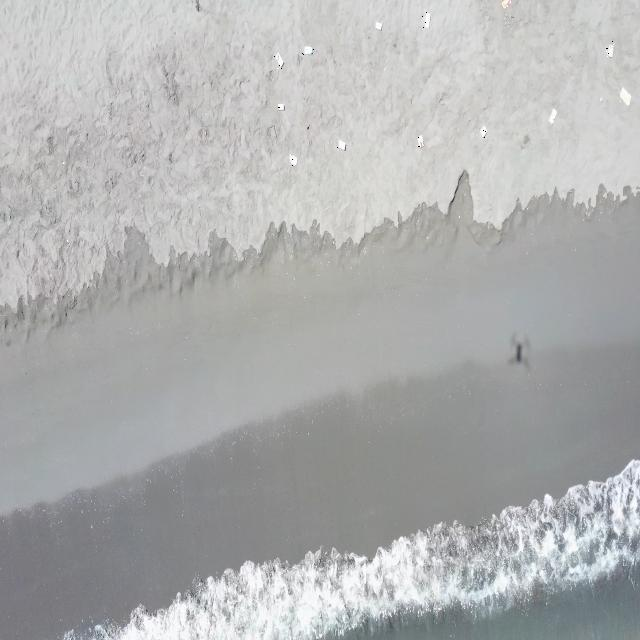retort-pouch: (619, 85, 632, 106), (547, 107, 558, 126), (274, 50, 285, 68), (422, 12, 432, 28), (606, 40, 614, 59), (302, 45, 314, 56), (337, 139, 347, 152), (480, 126, 489, 139), (500, 0, 513, 9), (288, 155, 298, 166), (417, 136, 425, 148), (376, 22, 384, 32), (277, 103, 285, 112)
